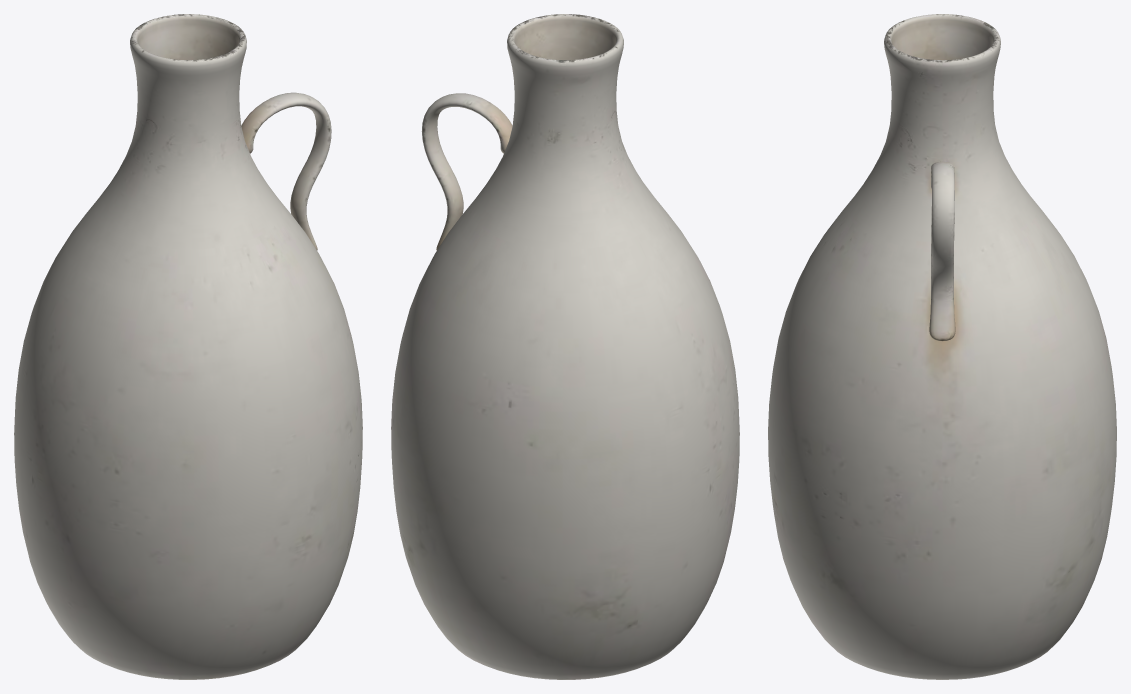
The model's file is vase-floor.glb.
3 views of the same model, side by side, from view 1: azimuth 30°, elevation 25°; view 2: azimuth 150°, elevation 25°; view 3: azimuth 270°, elevation 25° (orthographic).
Visible parts, largest first — view 1: ceramic_vase_04; view 2: ceramic_vase_04; view 3: ceramic_vase_04.
Part boxes in pixels (box(x1,y1,x2,y2)): ceramic_vase_04: box(14, 14, 362, 679); ceramic_vase_04: box(391, 14, 739, 679); ceramic_vase_04: box(768, 14, 1116, 679).
Bounding box in the file's own units: 0.3 × 0.5664 × 0.3.
Materials: 1 (1 with a texture image).
